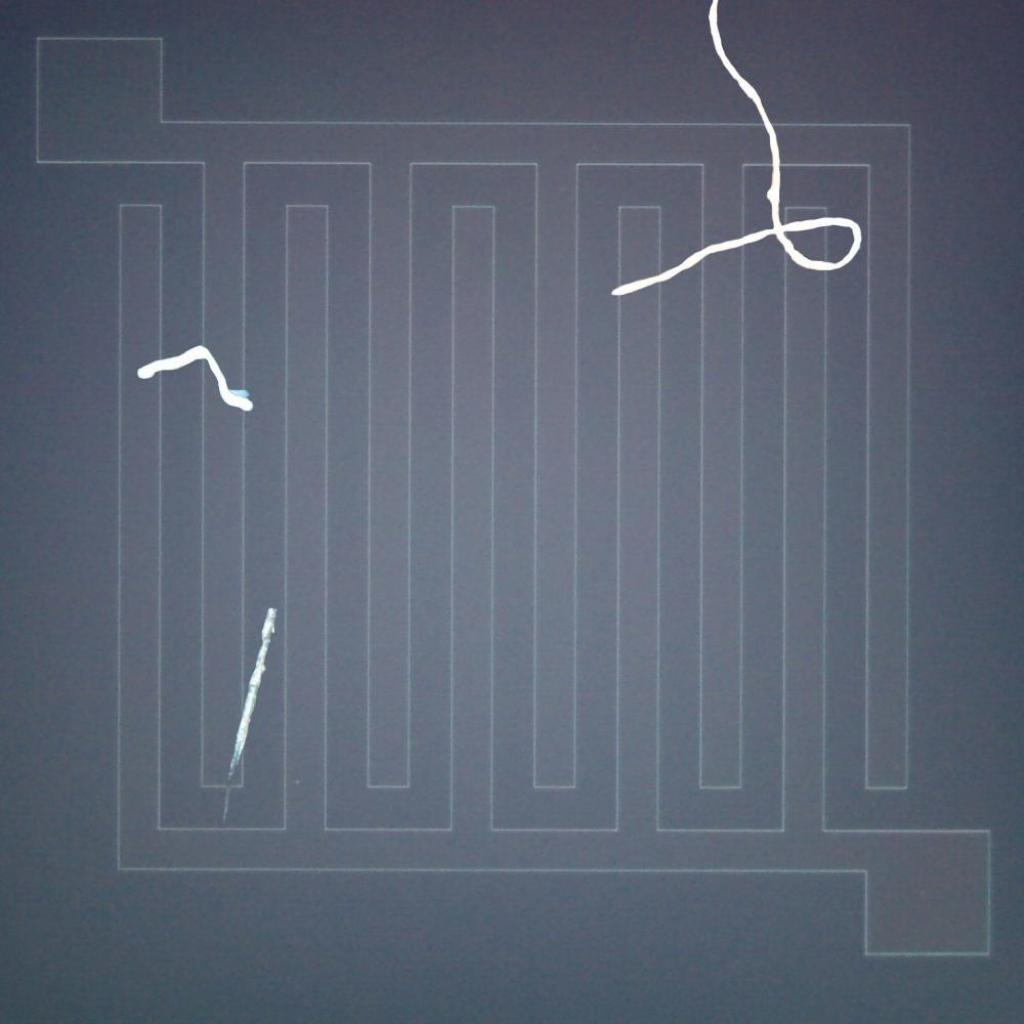line: (597, 0, 876, 310), (130, 338, 260, 421)
scratch: (217, 596, 289, 797)
